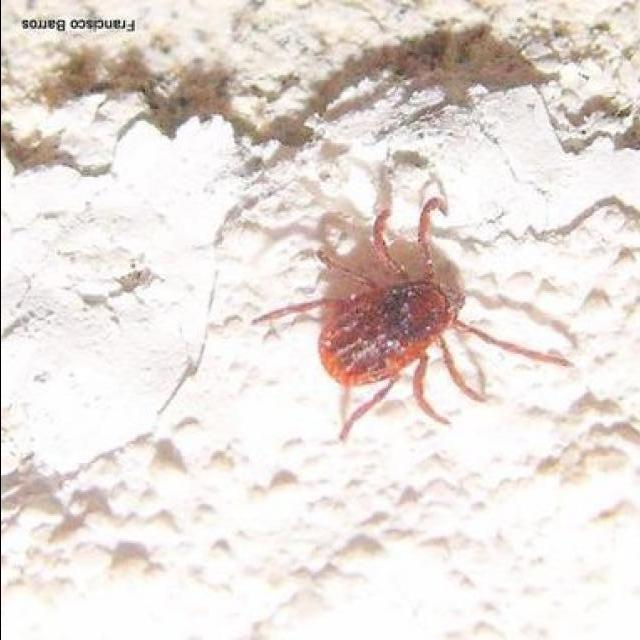Rhipicephalus Sanguineus-F: (250, 196, 571, 443)
